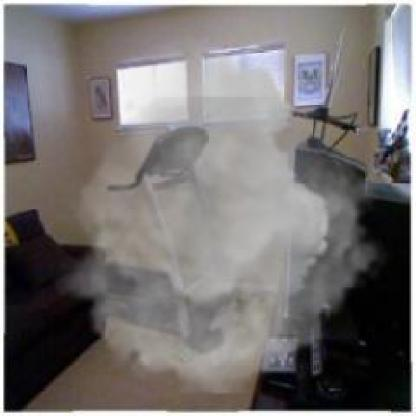Smoke: (52, 38, 392, 394)
